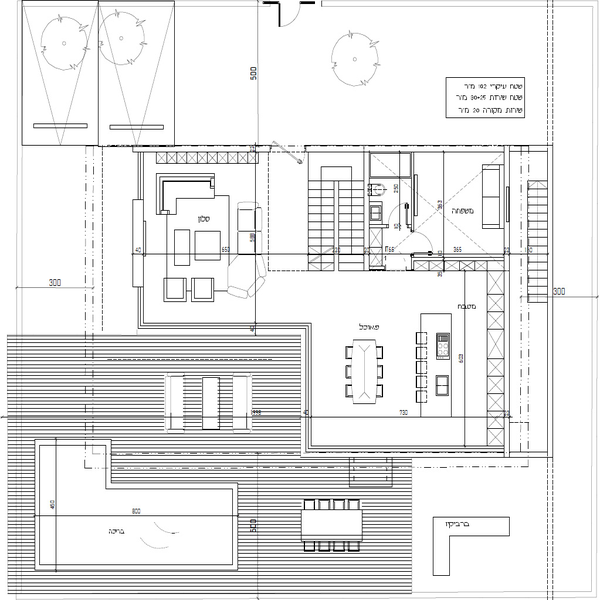door: (387, 198, 414, 228), (406, 230, 437, 255)
room: (300, 248, 516, 457), (124, 136, 305, 331), (297, 140, 527, 272)
wall: (307, 139, 507, 152), (358, 146, 376, 273), (130, 198, 153, 289), (135, 141, 276, 155), (409, 246, 507, 264), (407, 154, 427, 235), (505, 151, 514, 254)
window: (132, 156, 154, 204)
